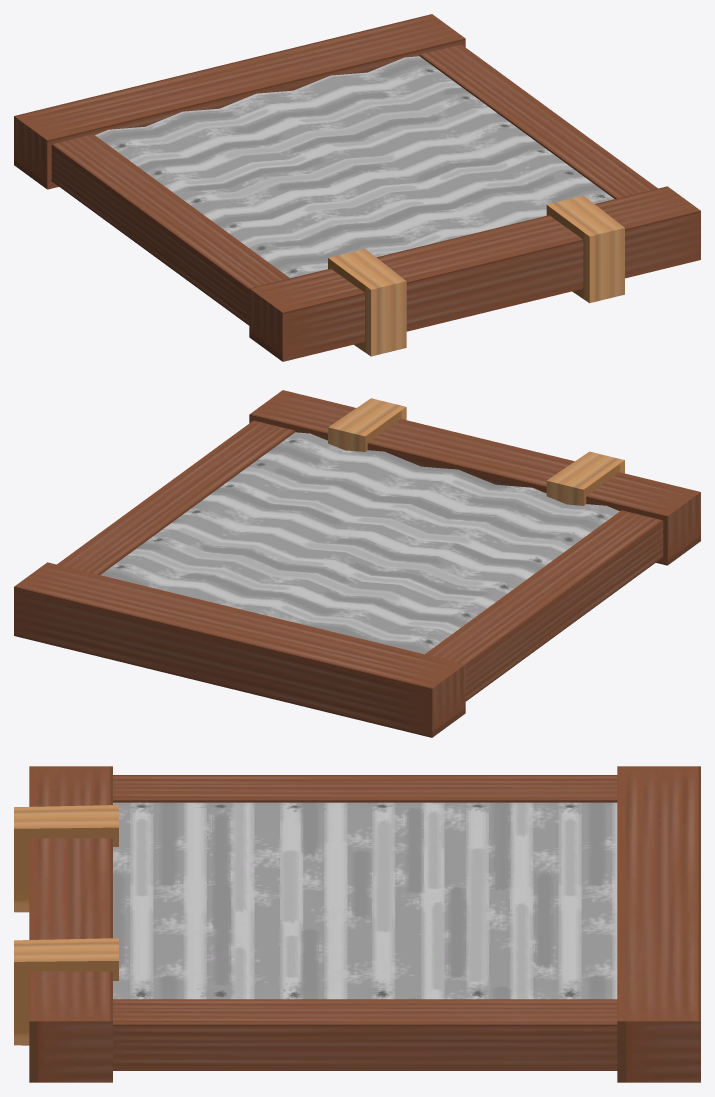
Rendered from Lid.fbx.
3 renders of one model, top to bottom at view 1: azimuth 30°, elevation 25°; view 2: azimuth 150°, elevation 25°; view 3: azimuth 270°, elevation 25°, orthographic. The views are drawn at different scales.
Visible parts, largest first — view 1: Lid, Lid (2); view 2: Lid, Lid (2); view 3: Lid, Lid (2).
Part boxes in pixels (x1,y1,x2,y2): Lid: (14,14,700,361); Lid (2): (95,56,614,278); Lid: (14,390,700,737); Lid (2): (100,432,619,654); Lid: (14,766,700,1082); Lid (2): (113,802,617,999).
Bounding box in the file's own units: 1.35 × 0.2145 × 1.54.
